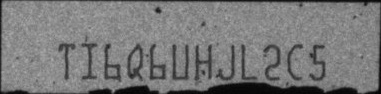2: (264, 43, 282, 81)
5: (309, 44, 326, 80)
6: (103, 43, 122, 80), (149, 42, 166, 80)
C: (286, 41, 304, 81)
H: (194, 43, 214, 80)
I: (79, 42, 99, 79)
J: (218, 43, 236, 81)
L: (240, 41, 259, 80)
Q: (126, 43, 143, 79)
T: (57, 42, 76, 80)
U: (171, 42, 190, 80)
